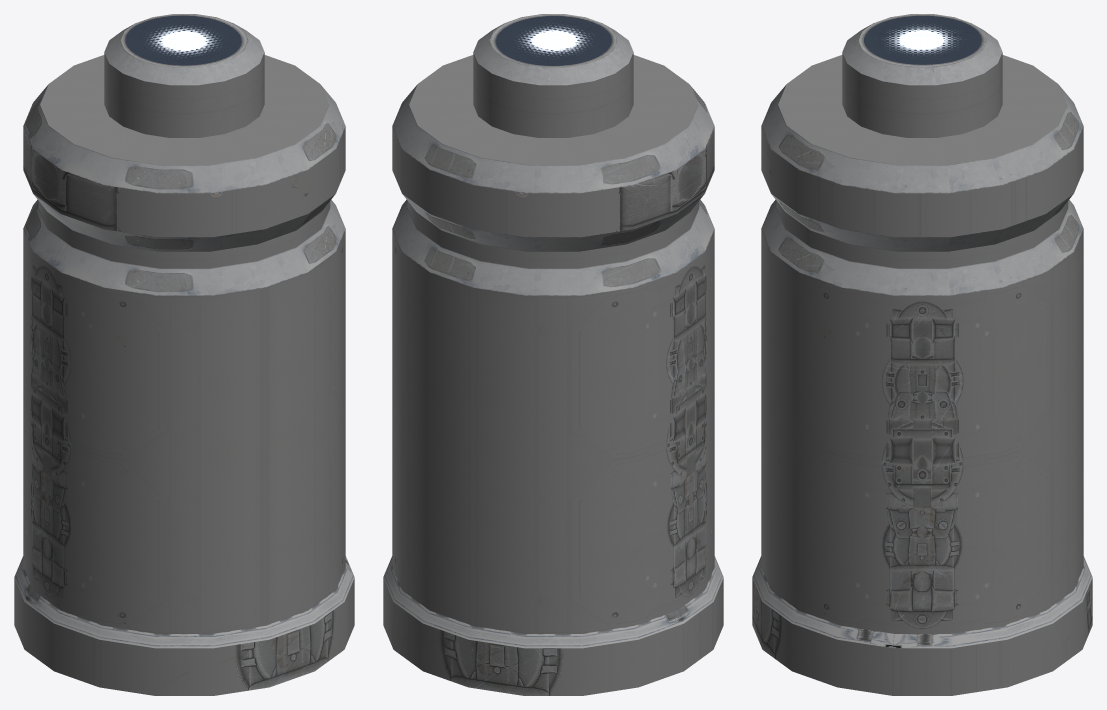
File: SM_CrateCyl2.fbx
The picture shows the model from 3 angles, left to right: view 1: azimuth 30°, elevation 25°; view 2: azimuth 150°, elevation 25°; view 3: azimuth 270°, elevation 25°; orthographic projection.
Visible parts, largest first — view 1: SM_CrateCyl2_LOD0; view 2: SM_CrateCyl2_LOD0; view 3: SM_CrateCyl2_LOD0.
Part boxes in pixels (left/top/right/bottom): SM_CrateCyl2_LOD0: left=14, top=14, right=354, bottom=695; SM_CrateCyl2_LOD0: left=383, top=14, right=723, bottom=695; SM_CrateCyl2_LOD0: left=752, top=14, right=1092, bottom=695.
Bounding box in the file's own units: 52.01 × 52.81 × 100.
Materials: 3 (3 with a texture image).
